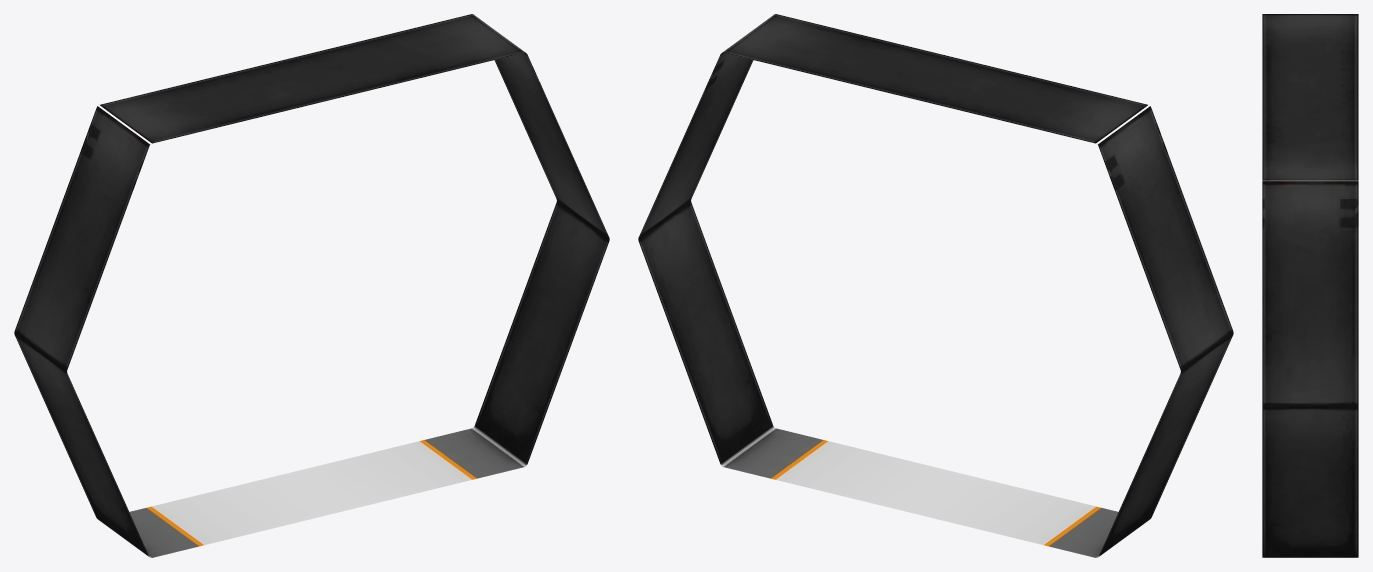
Rendered from black object-opt.glb.
3 views of the same model, side by side, from view 1: azimuth 30°, elevation 25°; view 2: azimuth 150°, elevation 25°; view 3: azimuth 270°, elevation 25° (orthographic). The views are drawn at different scales.
Visible parts, largest first — view 1: Frame1_Scifi_Tunnel_Loop_M_0.1429; view 2: Frame1_Scifi_Tunnel_Loop_M_0.1429; view 3: Frame1_Scifi_Tunnel_Loop_M_0.1429.
Boxes of the visible parts, x1,y1,x2,y2 form: Frame1_Scifi_Tunnel_Loop_M_0.1429: (14, 14, 609, 557); Frame1_Scifi_Tunnel_Loop_M_0.1429: (638, 14, 1233, 557); Frame1_Scifi_Tunnel_Loop_M_0.1429: (1262, 14, 1358, 557).
Size of the model in its own units: 5.87 by 4.28 by 0.9909.
1 material, 1 textured.
